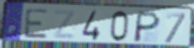0: (109, 10, 131, 43)
4: (82, 10, 102, 42)
7: (164, 12, 187, 44)
E: (22, 8, 50, 40)
P: (131, 10, 162, 44)
Z: (52, 9, 78, 41)
